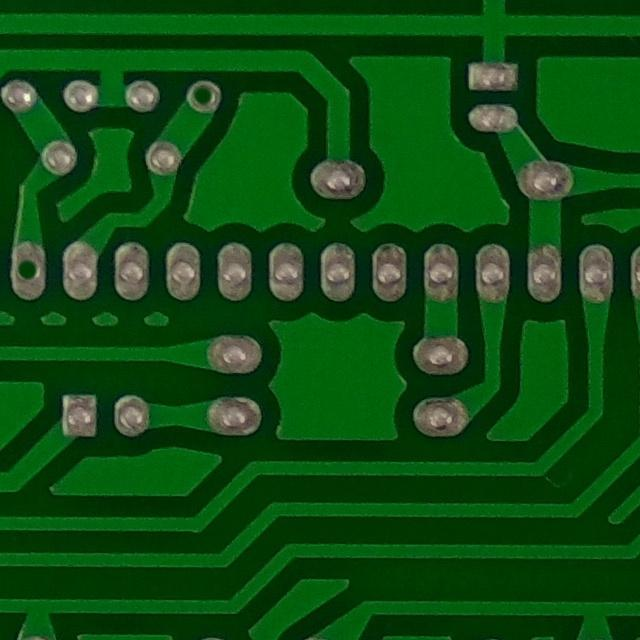missing_hole: (0, 244, 55, 299), (182, 72, 227, 123)
